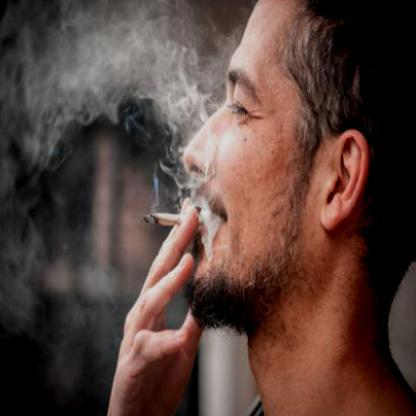cigarette: (142, 212, 182, 228)
person: (179, 0, 415, 415)
smoke: (9, 0, 220, 146), (196, 204, 219, 262), (164, 146, 186, 190)
